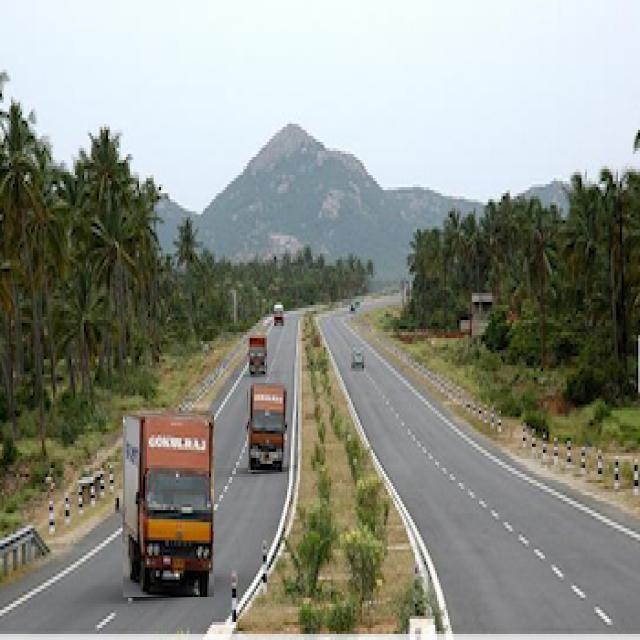truck: (123, 415, 214, 597), (248, 384, 286, 472), (249, 337, 266, 372)
